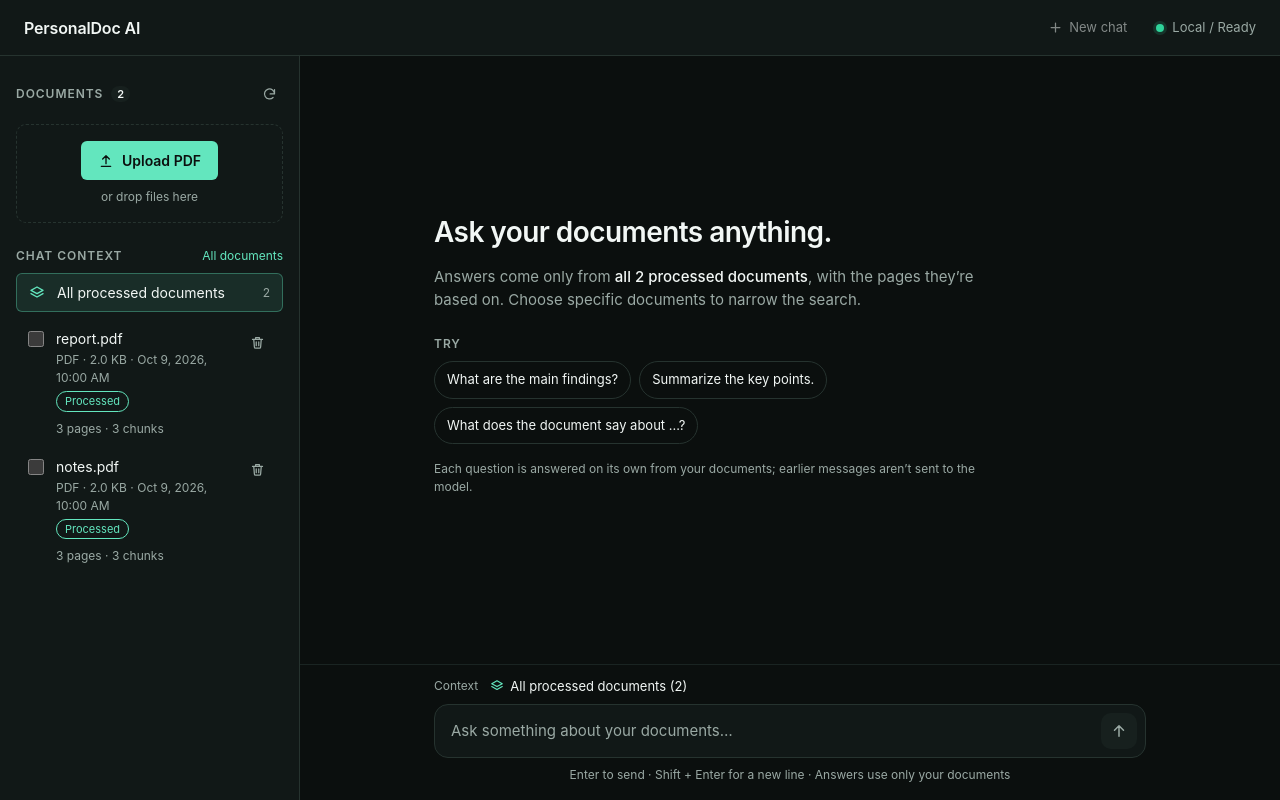
Test: source excerpts › expand and collapse to show the exact retrieved text, without touching the conversation
The width and height of the screenshot is (1280, 800).
Type "What happened?" into the text box named "ask a question".
click(772, 732); type("What happened?")  # box [451, 714, 1093, 749]
Then press Enter
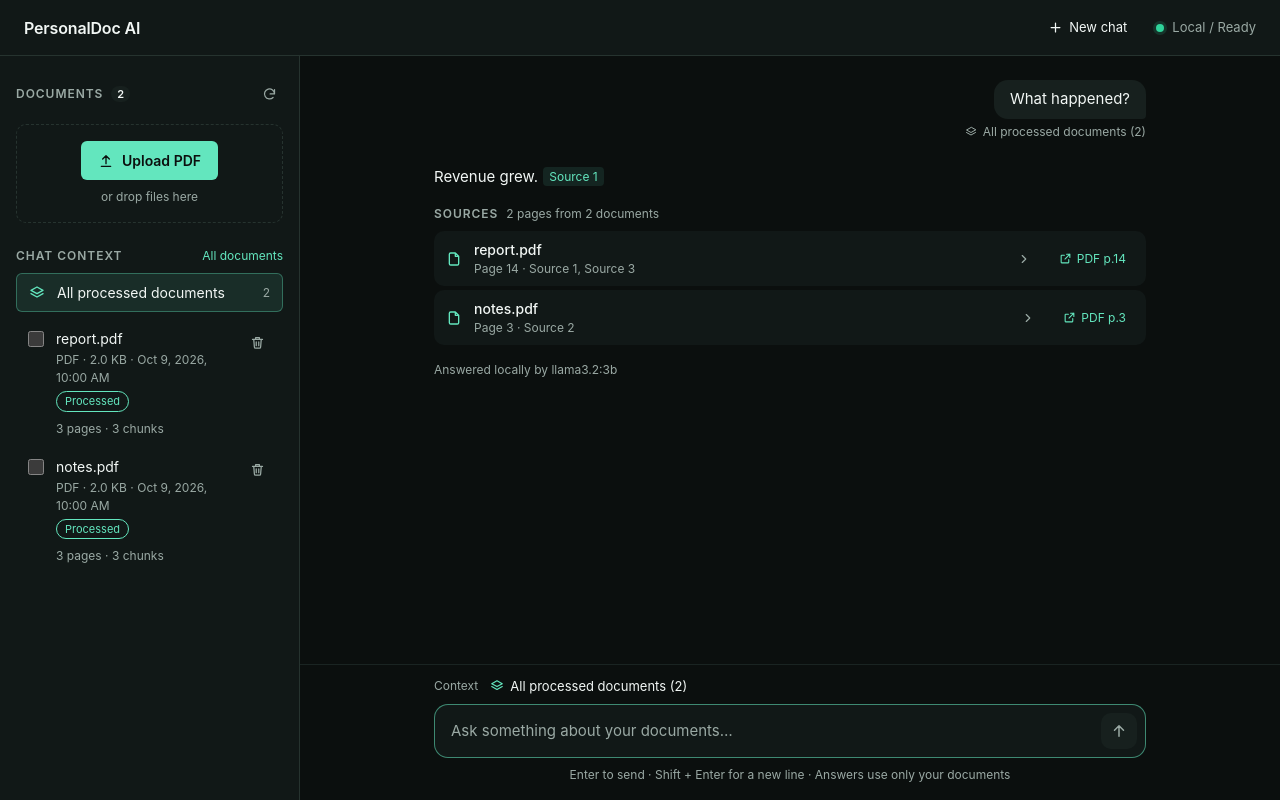
Check: the text "Revenue grew by 12% in 2025, driven by the new product line." is not shown
Check: the element "Sources" is shown, box [434, 205, 1146, 345]
Click the button "report.pdf Page 14 · Source 1, Source 3".
click(508, 250)  # box [434, 231, 1043, 286]
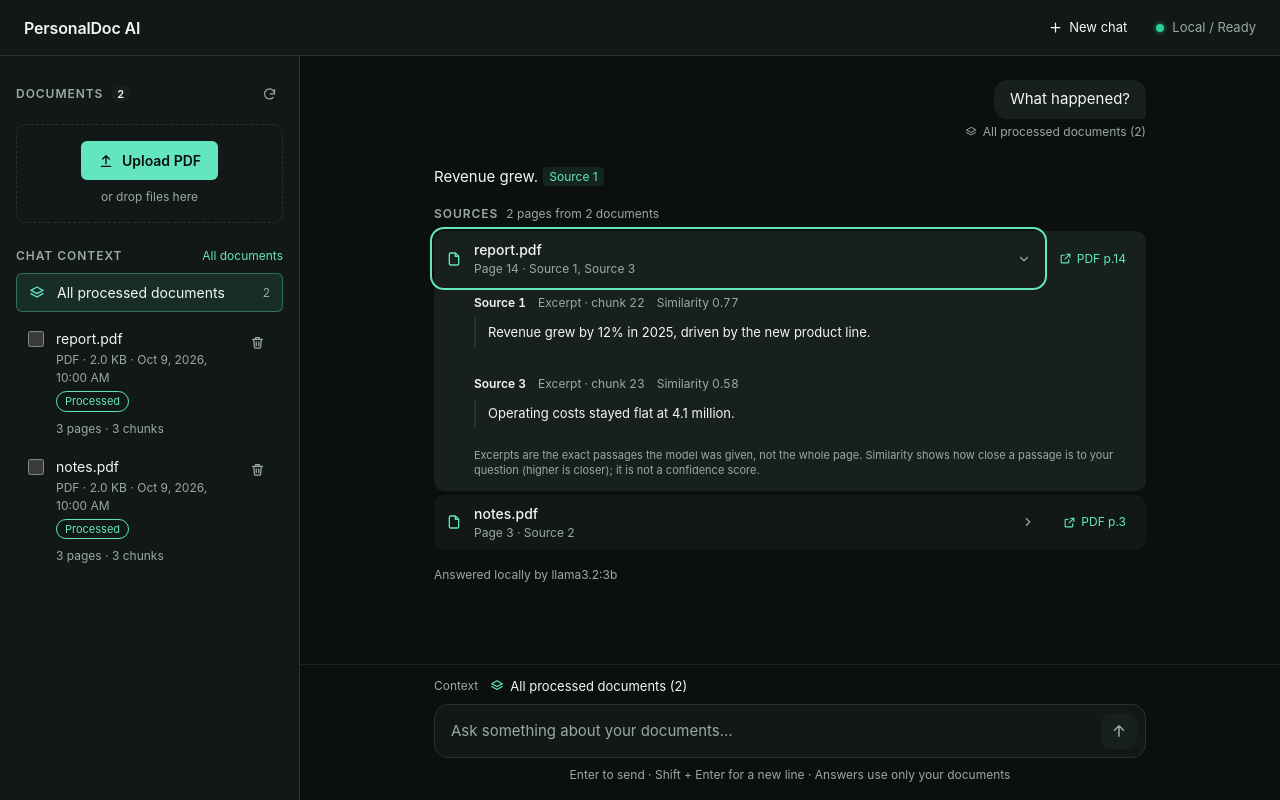
Check: the text "exact passages the model was given, not the whole page" is shown, box [474, 448, 1113, 477]
Click the button "report.pdf Page 14 · Source 1, Source 3".
click(508, 250)  # box [434, 231, 1043, 286]
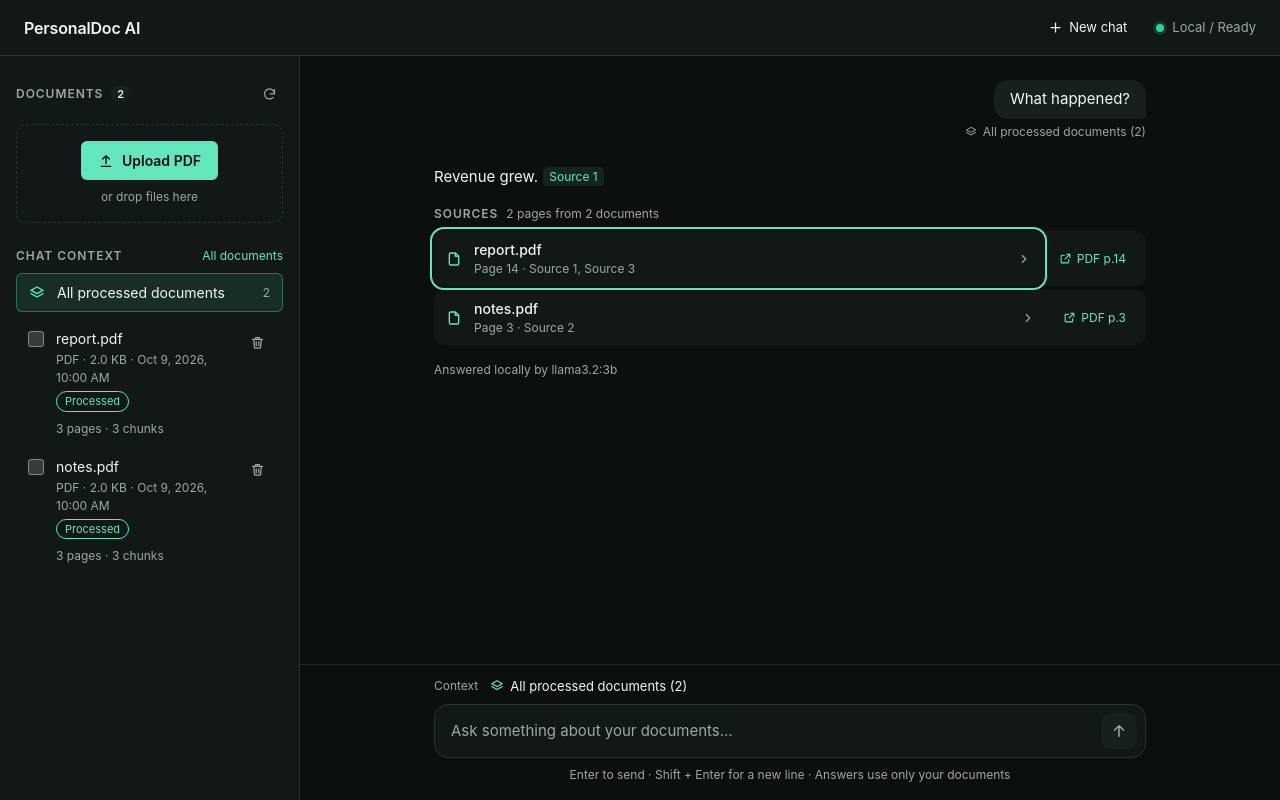
Check: the text "What happened?" is shown, box [994, 80, 1146, 118]
Check: the text "Revenue grew." is shown, box [434, 166, 542, 186]
Check: the text "Revenue grew by 12% in 2025, driven by the new product line." is gone
